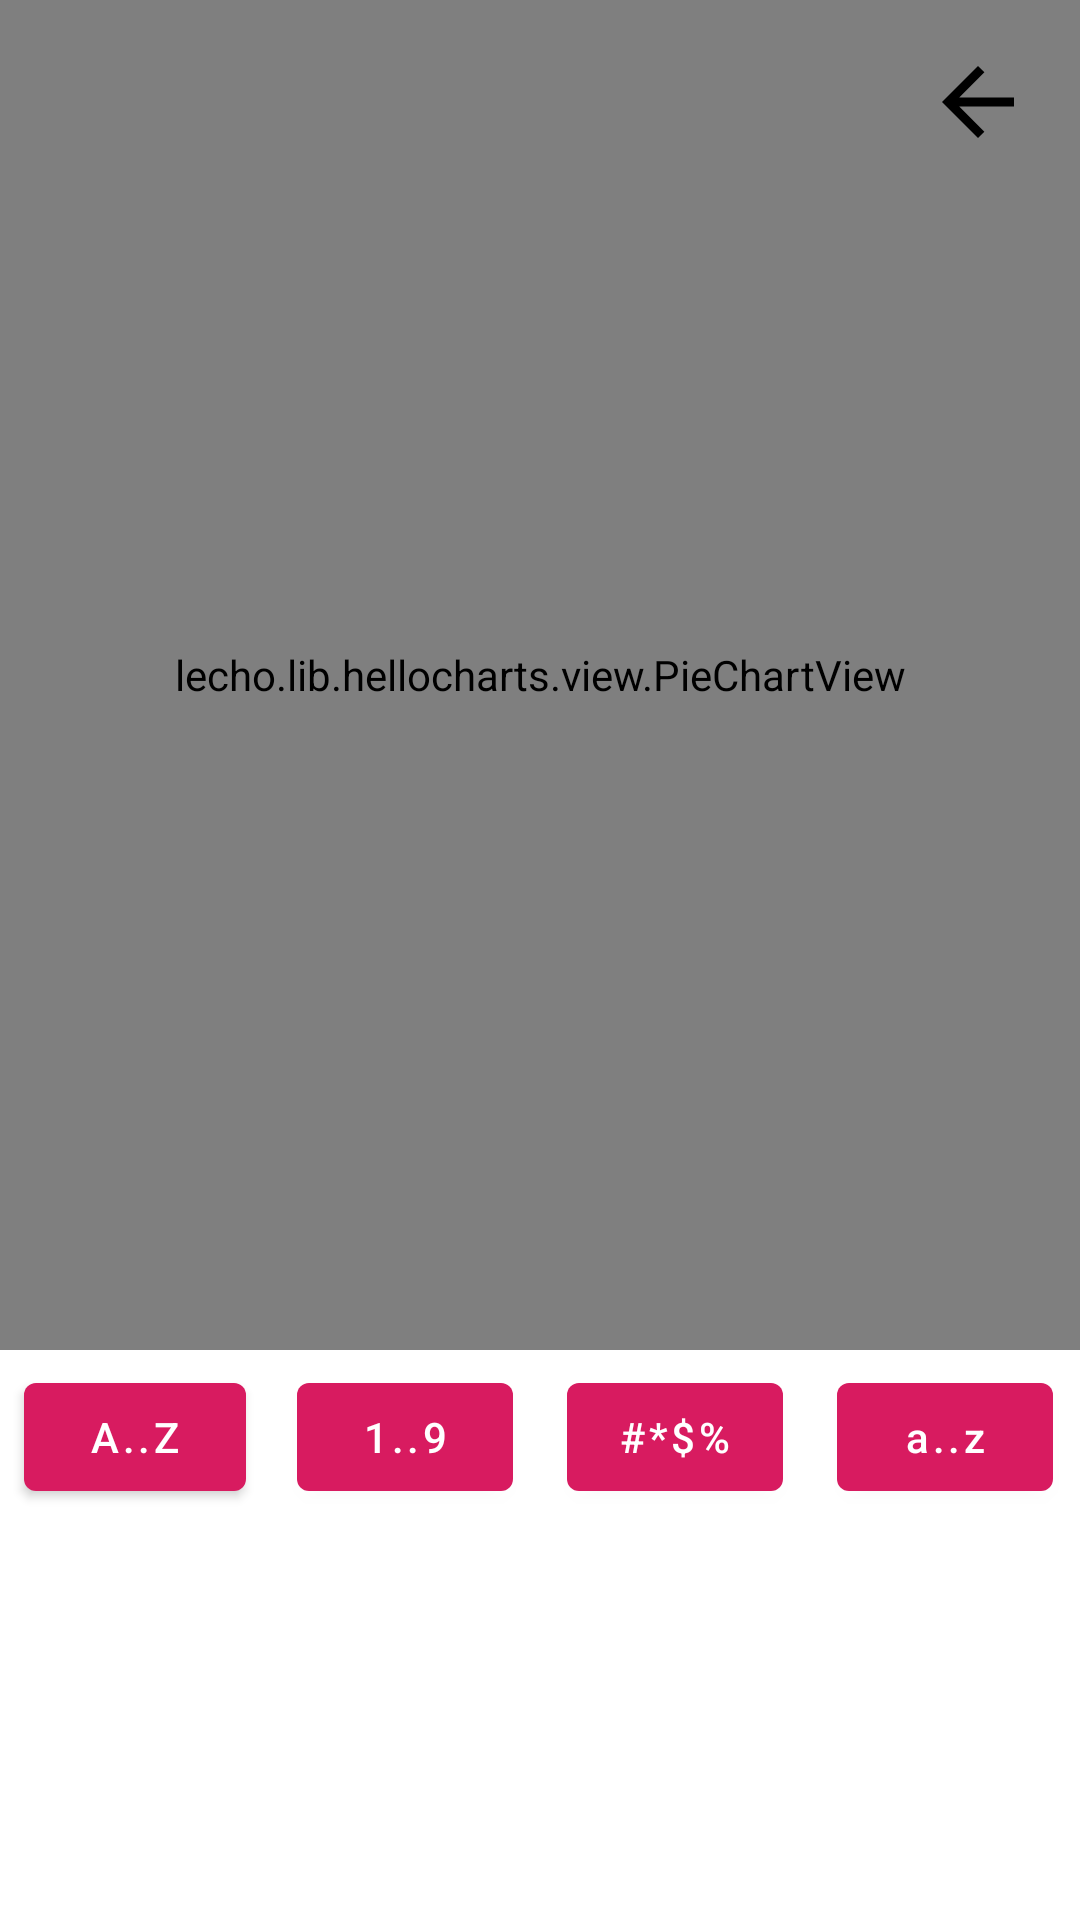

Screen size 1080 × 1920. Icon name, then its center in pixels as [x,y]:
arrow back: [978,102]
